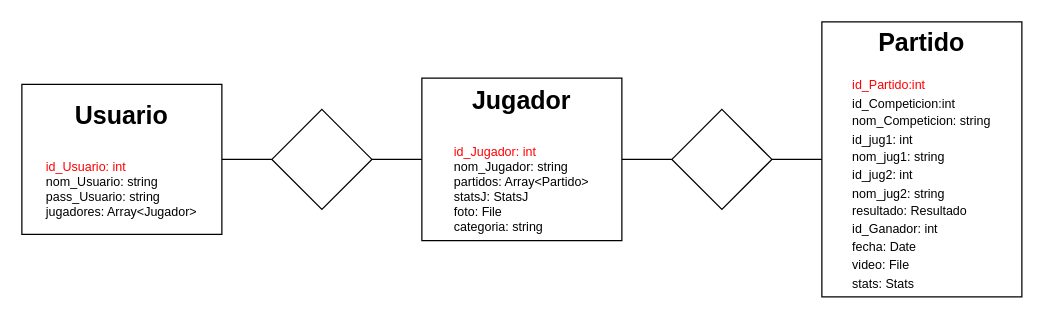
The diagram is 1044 pixels wide and 319 high, and some of its shapes have lost their labels. The box of each missing label's shape, as (x1, y1, x2, y2) in pixels:
GESTIONA: (271, 108, 372, 209)
JUEGA: (671, 108, 772, 209)
